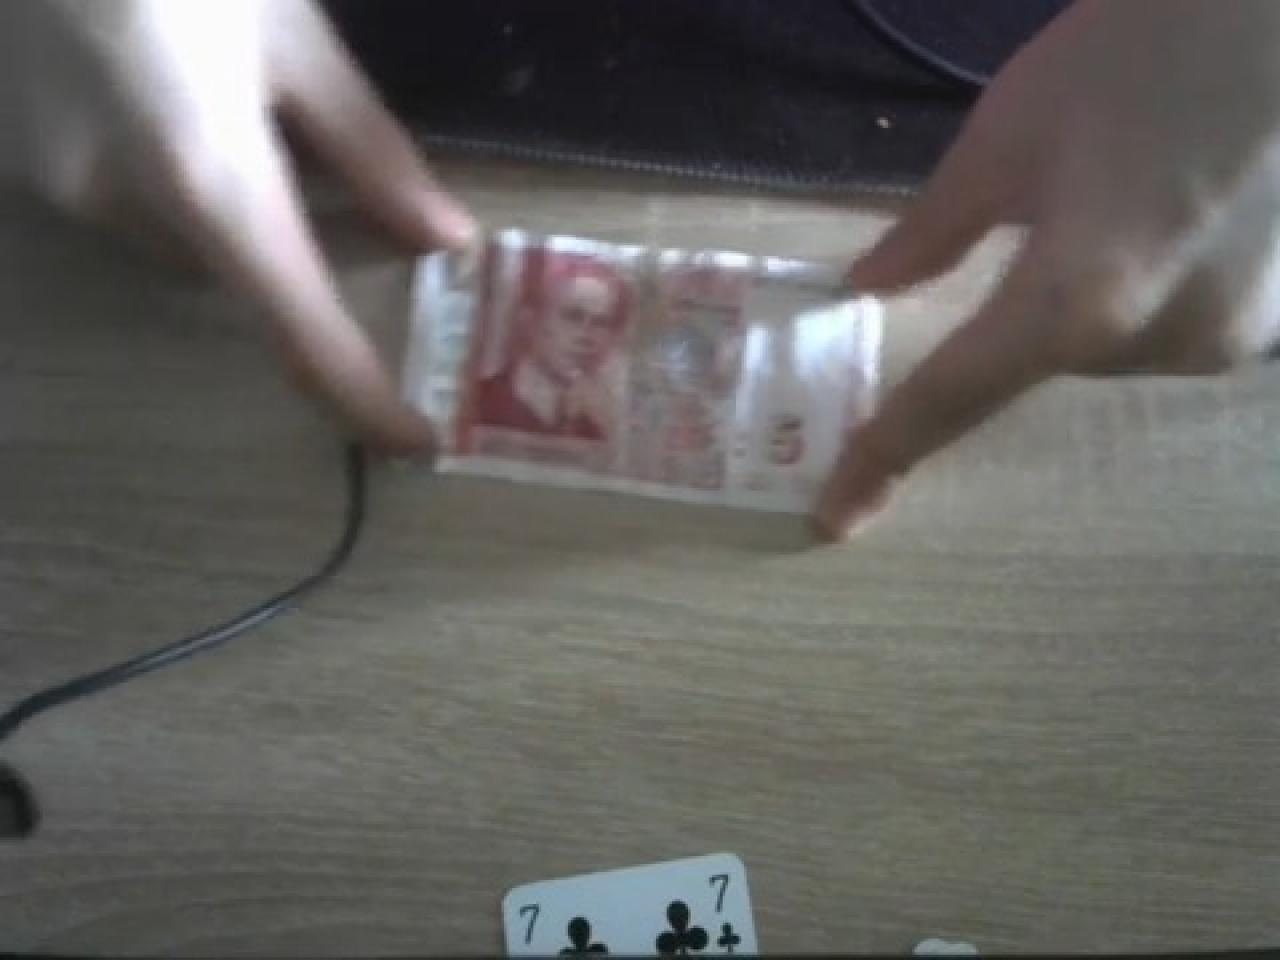5leva: (440, 227, 829, 509)
